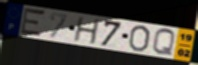7: (99, 19, 124, 48), (48, 11, 68, 40)
E: (19, 6, 48, 40)
H: (72, 16, 101, 46)
O: (127, 25, 152, 53)
Q: (151, 28, 177, 58)
